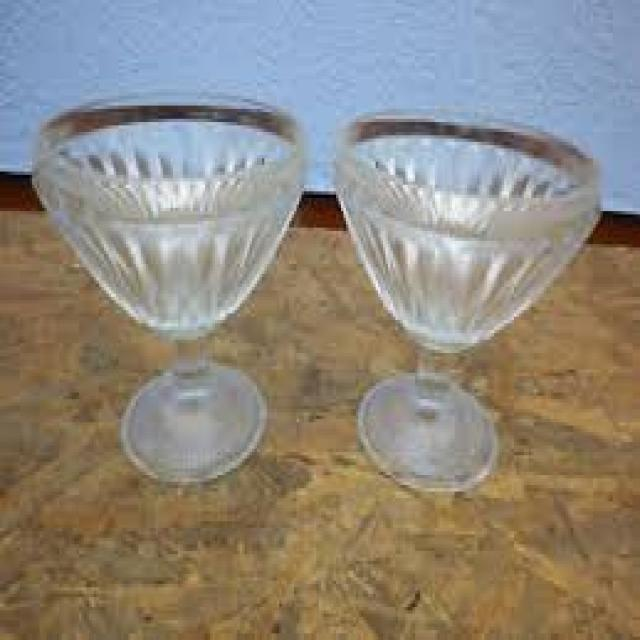Glass: (35, 92, 308, 487), (331, 110, 603, 492)
